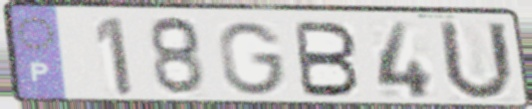1: (93, 14, 136, 99)
4: (372, 19, 440, 101)
8: (145, 15, 207, 100)
B: (292, 19, 363, 100)
G: (215, 19, 290, 97)
U: (434, 18, 518, 105)
